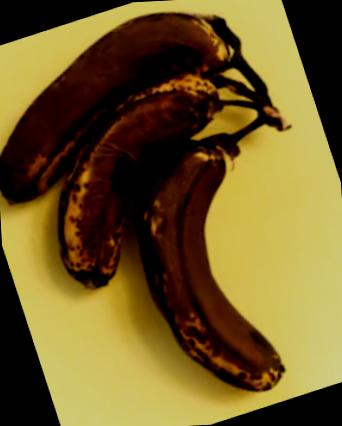Banana Overripe: (3, 1, 333, 404)
